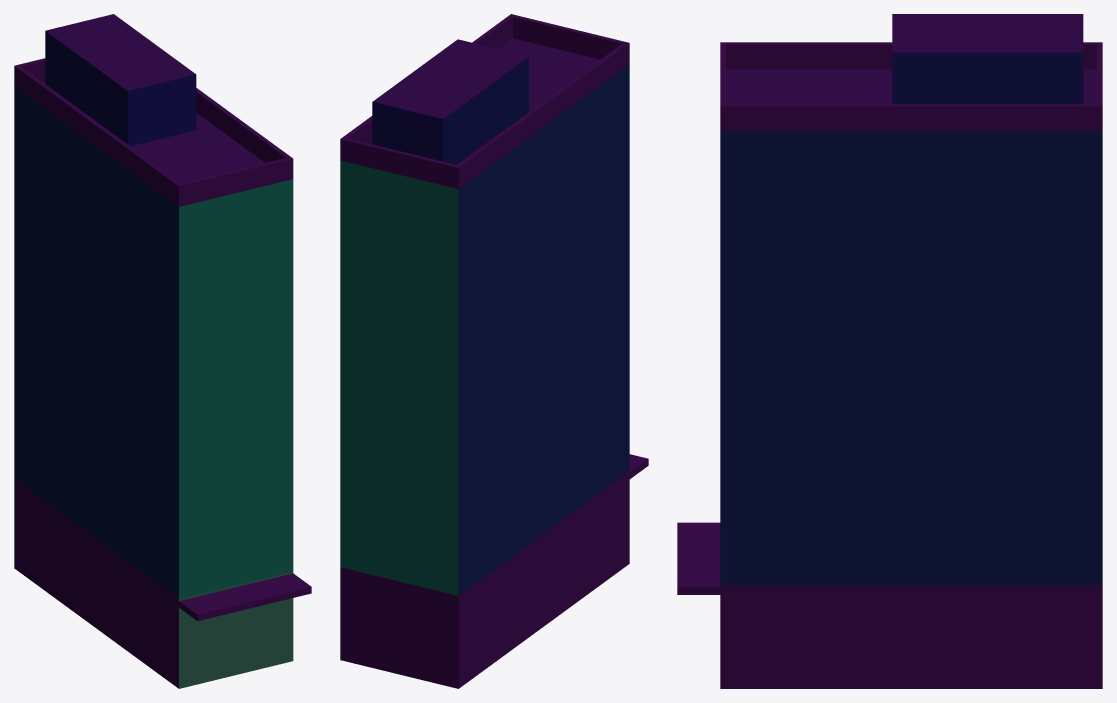
File: walkup_b.lod2.glb
3 renders of one model, left to right at view 1: azimuth 30°, elevation 25°; view 2: azimuth 150°, elevation 25°; view 3: azimuth 270°, elevation 25°, orthographic. The views are drawn at different scales.
Parts seen in each view (by area): view 1: walkup_b.lod2; view 2: walkup_b.lod2; view 3: walkup_b.lod2.
Part boxes in pixels (x1,y1,x2,y2): walkup_b.lod2: (14, 14, 311, 688); walkup_b.lod2: (340, 14, 648, 688); walkup_b.lod2: (677, 14, 1102, 688).
Bounding box in the file's own units: 6.4 × 28.8 × 17.8.
